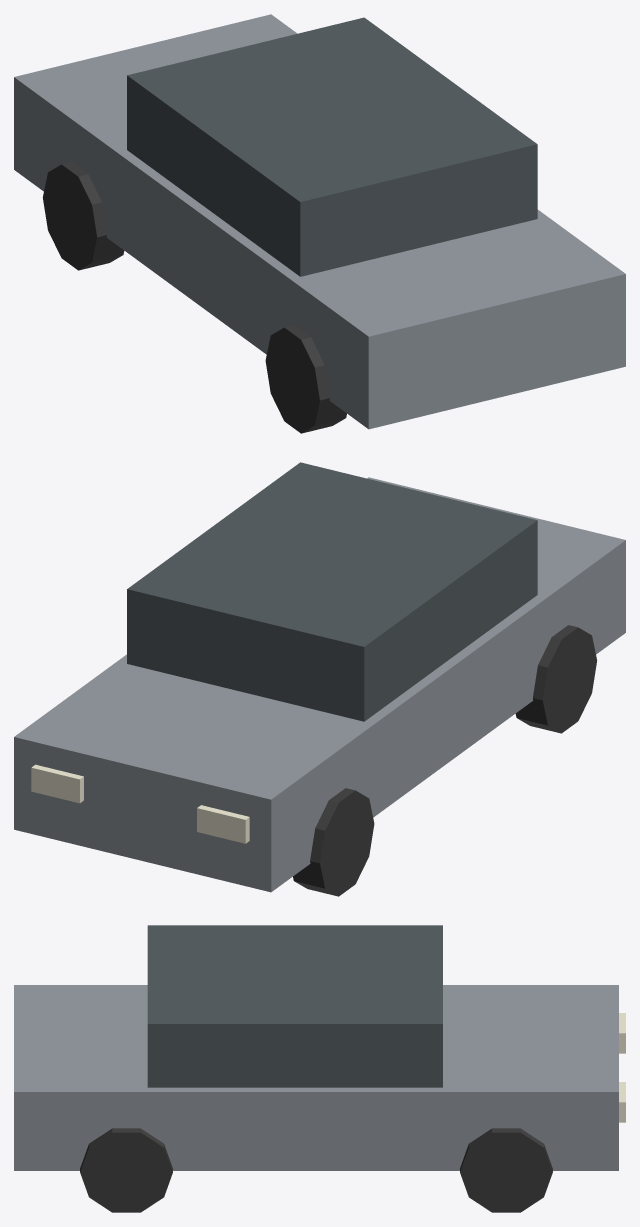
Rendered from car.glb.
The picture shows the model from 3 angles, top to bottom: view 1: azimuth 30°, elevation 25°; view 2: azimuth 150°, elevation 25°; view 3: azimuth 270°, elevation 25°; orthographic projection. The views are drawn at different scales.
Visible parts, largest first — view 1: car; view 2: car; view 3: car.
Part boxes in pixels (x1,y1,x2,y2): car: (14, 14, 625, 433); car: (14, 462, 625, 896); car: (14, 925, 625, 1212).
Bounding box in the file's own units: 1.94 × 1.41 × 4.35.
